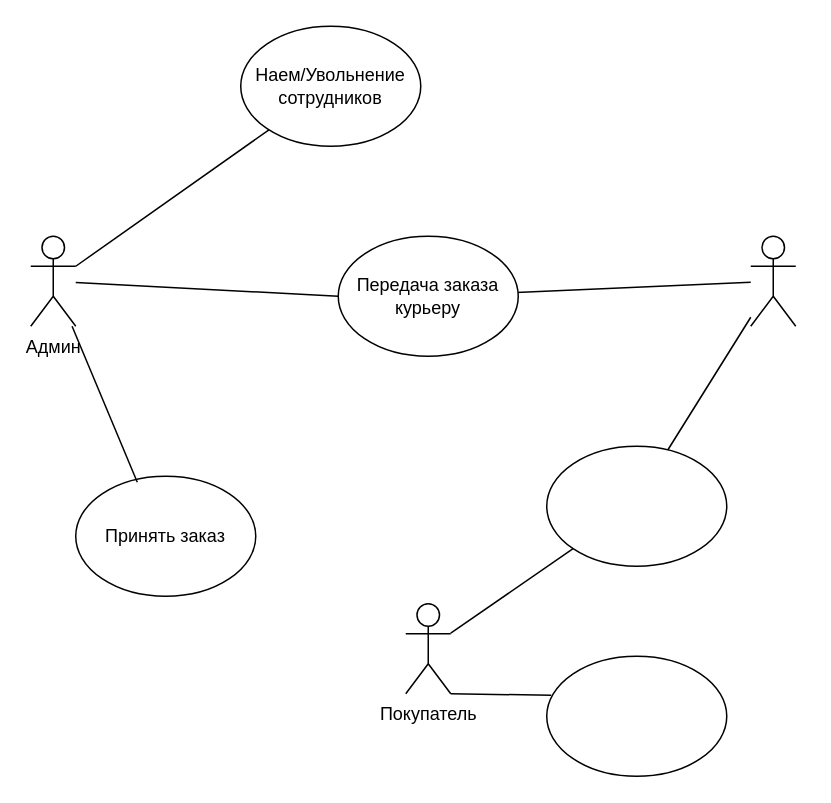
The diagram is 831 pixels wide and 803 high, and some of its shapes have lost their labels. Each missing label, with the centre of its shape:
Курьер: pixel 772 280
Оставить отзыв: pixel 636 715
Получить заказ: pixel 636 505
